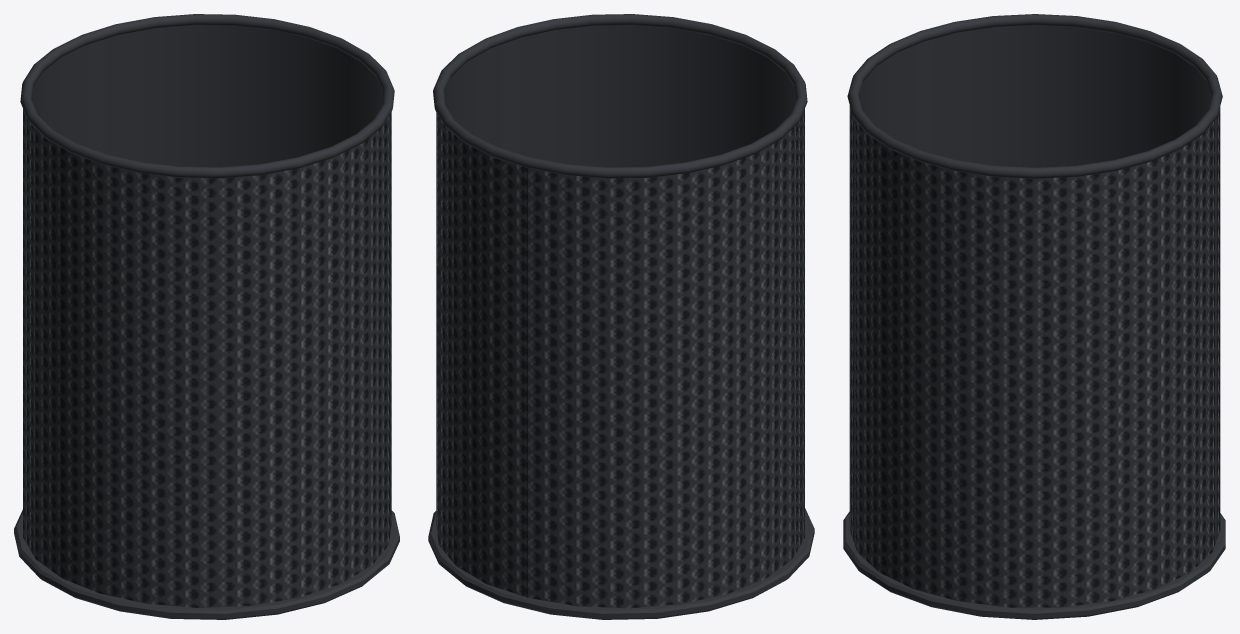
The model's file is pen organizer.FBX.
3 views of the same model, side by side, from view 1: azimuth 30°, elevation 25°; view 2: azimuth 150°, elevation 25°; view 3: azimuth 270°, elevation 25° (orthographic).
Parts seen in each view (by area): view 1: pen organizer; view 2: pen organizer; view 3: pen organizer.
Part boxes in pixels (<box>): pen organizer: <box>14,14,399,619</box>; pen organizer: <box>428,14,814,619</box>; pen organizer: <box>843,14,1225,619</box>.
Bounding box in the file's own units: 3.65 × 3.61 × 4.67.
Materials: 1 (1 with a texture image).
